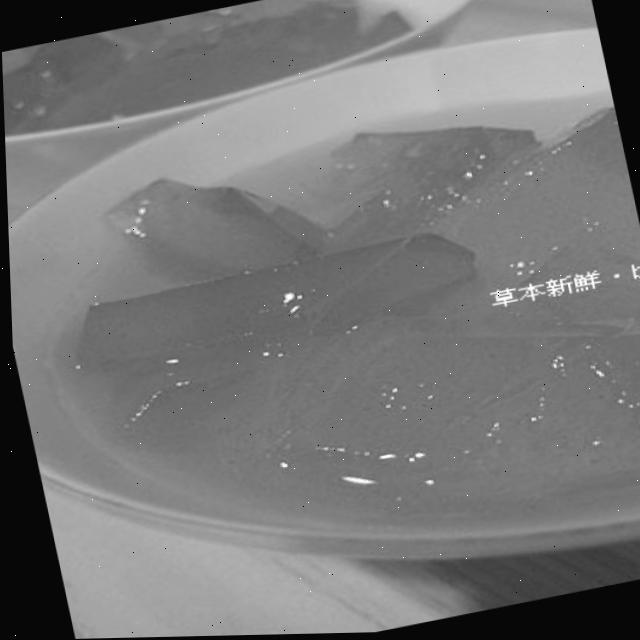蛋糕甜品: (0, 3, 640, 639)
